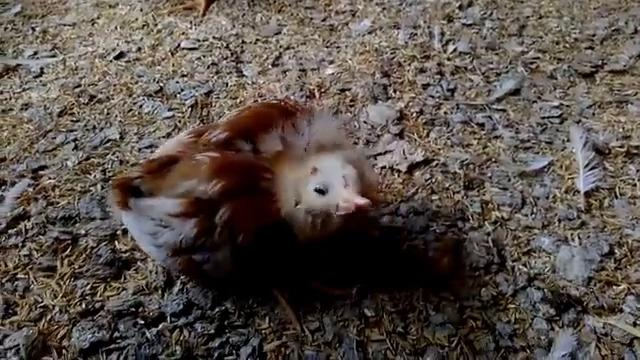AbNormal: (116, 99, 379, 309)
